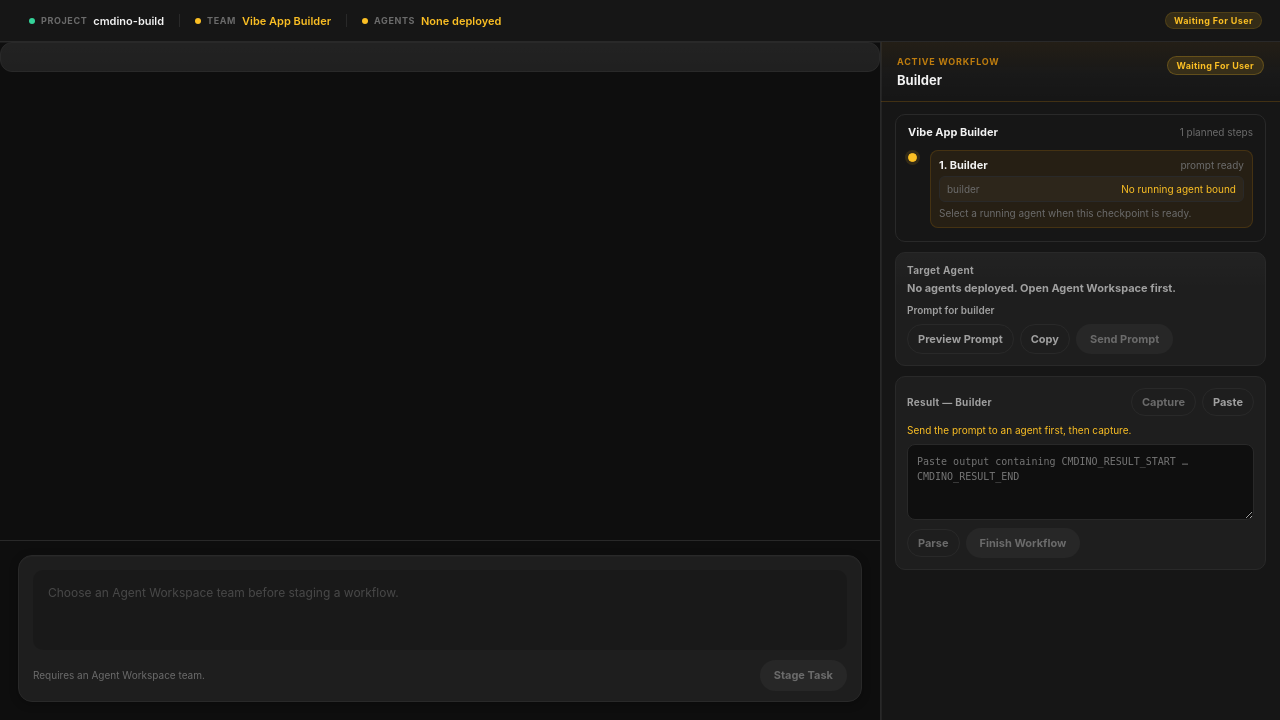
MainTaskChat prompt preview › shows the CMDINO_RESULT contract in the prompt preview
Click the button "Preview Prompt" at (960, 339), box [907,324,1014,354]
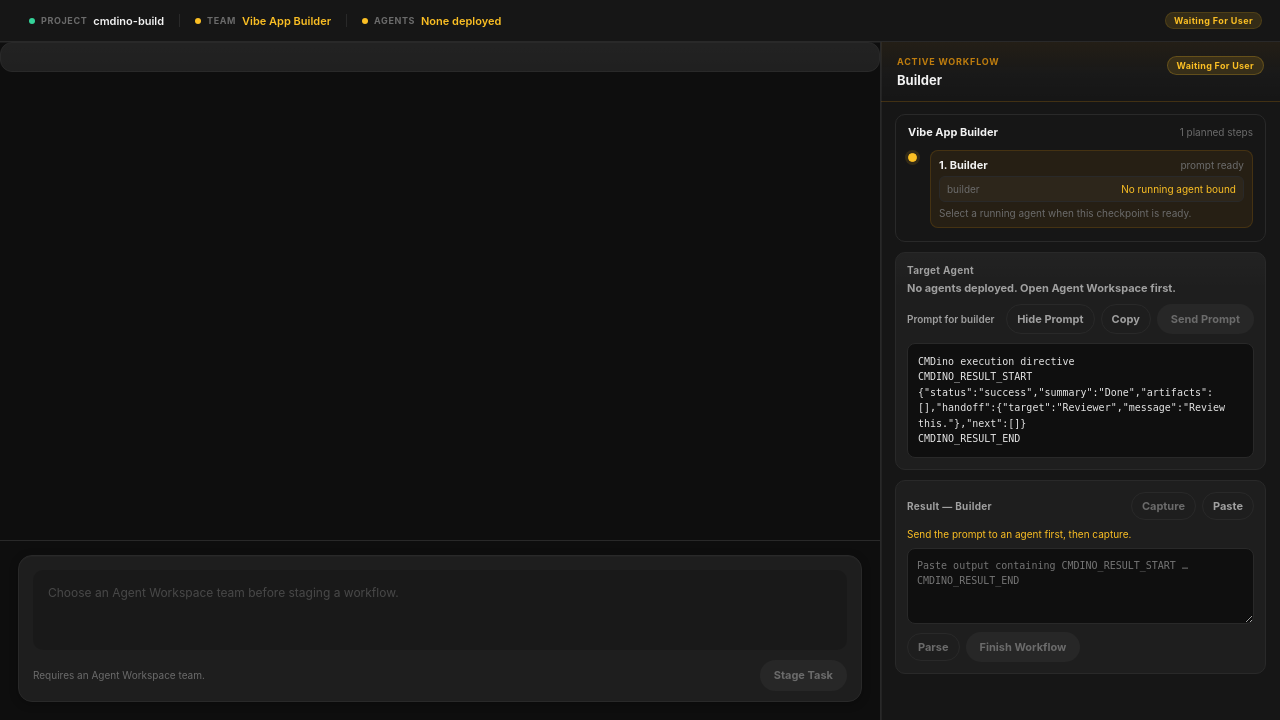
Result: the text "\"next\"" is shown at [918,356,1231,444]
